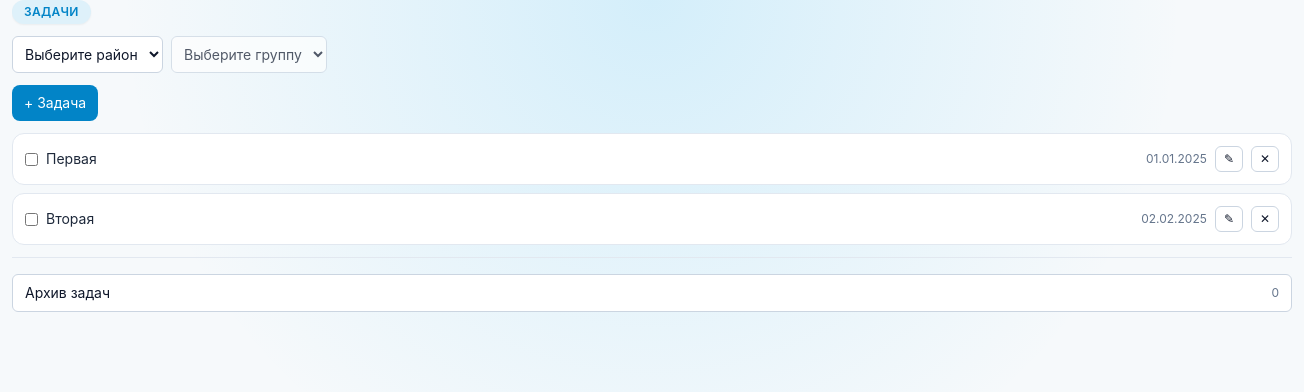
Test case: TasksTab CRUD operations › Create: adds new task
Click the button "+ Задача" at (55, 103), box [12,85,98,121]
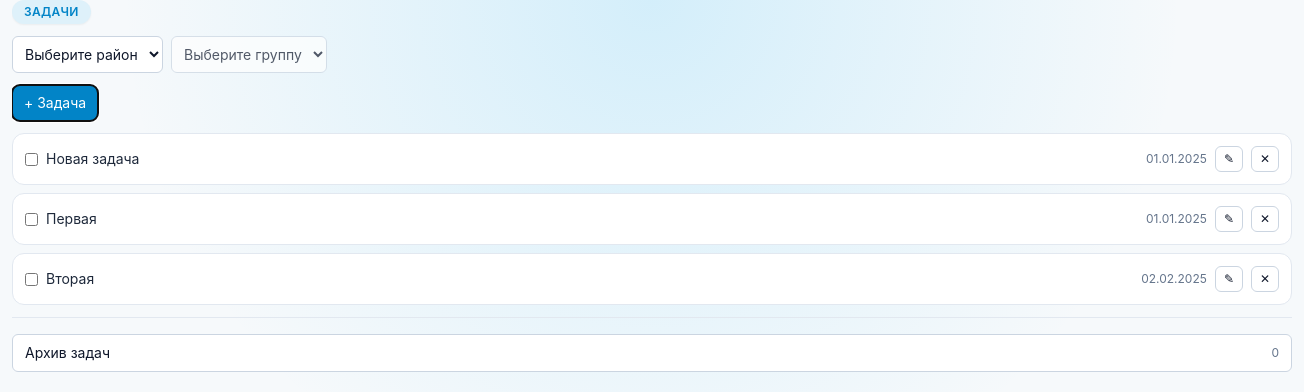
Now the text "Новая задача" is shown, box [46,149,140,169]
